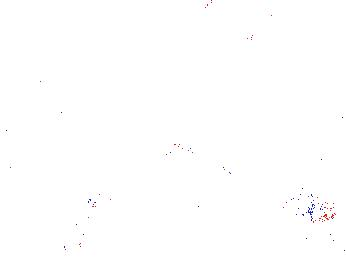X-ray fish: (261, 92, 303, 126)
glassfish: (144, 132, 239, 190), (67, 172, 125, 255)
redtail glassfish: (203, 25, 257, 56)
